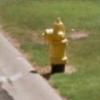a fire hydrant: (43, 16, 68, 72)
